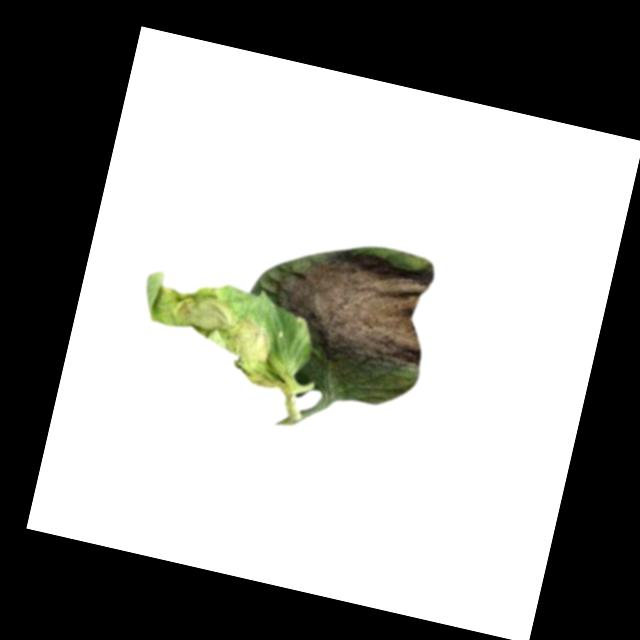Late_blight: (262, 233, 443, 382), (128, 265, 304, 393)
